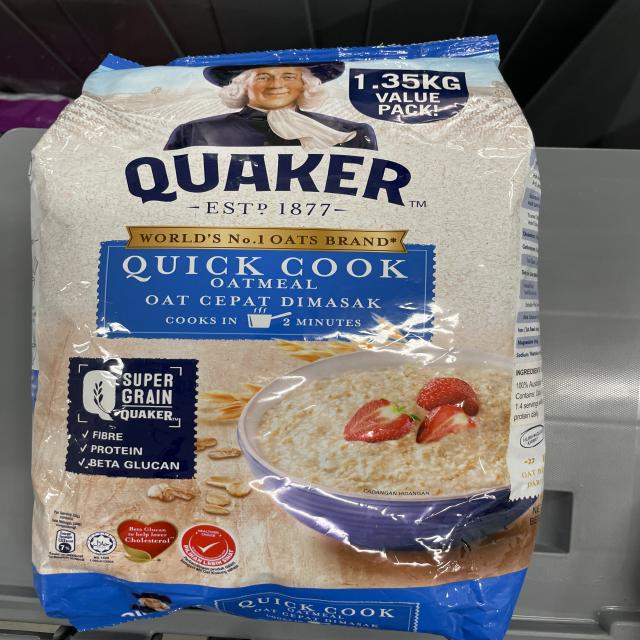object_name: (47, 68, 521, 631)
